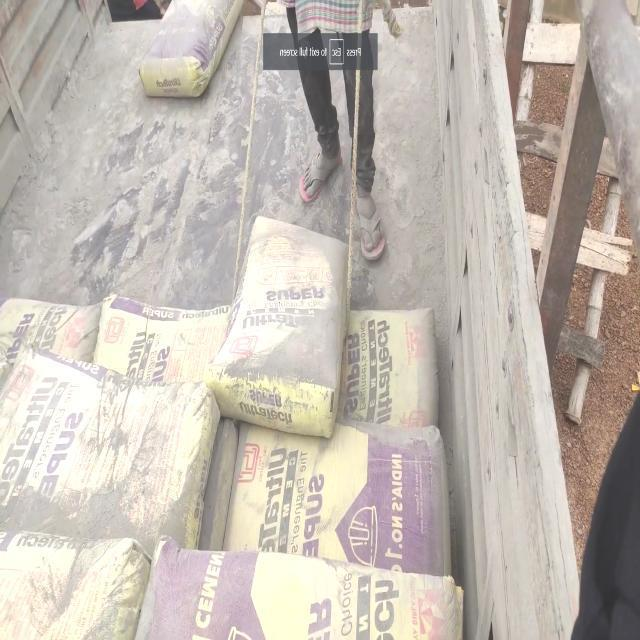gunny_bag: (0, 347, 219, 555), (224, 424, 450, 576), (137, 539, 463, 640), (204, 216, 347, 437), (0, 531, 150, 639), (94, 294, 229, 383), (341, 308, 439, 427), (139, 0, 242, 95), (0, 298, 101, 386)
